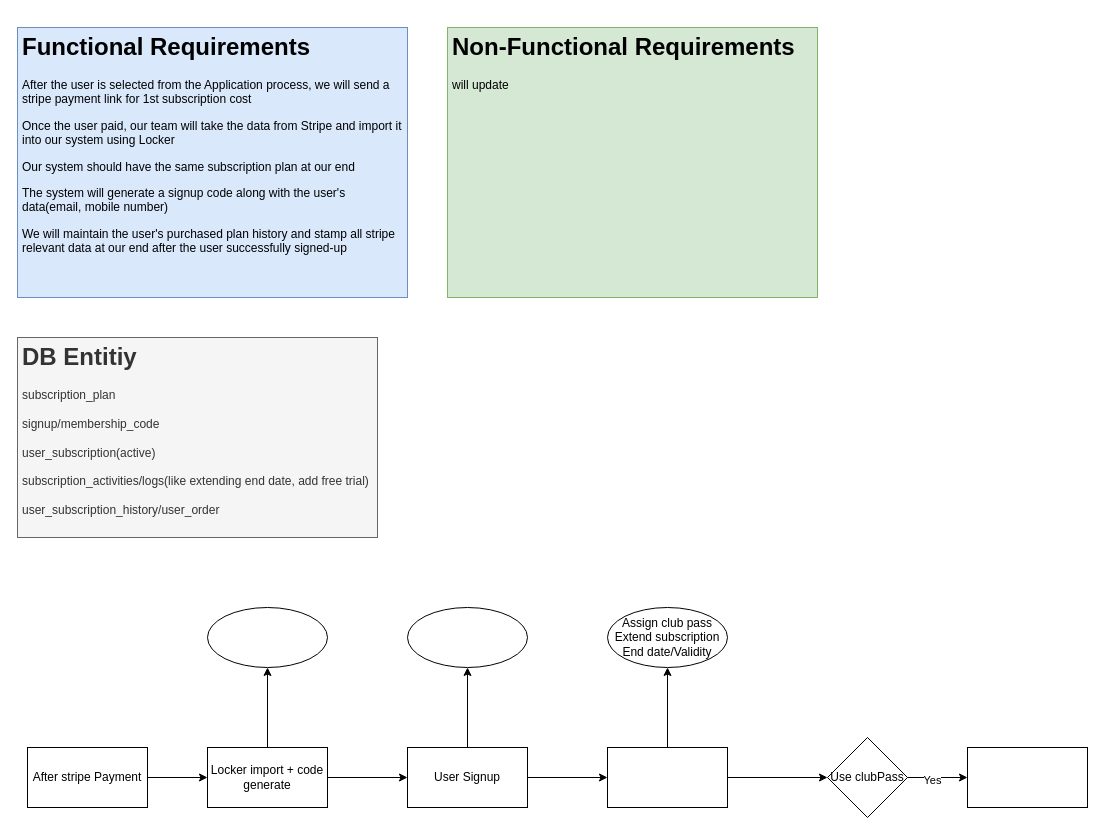
The diagram is 1105 pixels wide and 835 high, and some of its shapes have lost their labels. Each missing label, with the centre of its shape:
"Link user a/c with subscription" belongs at (467,637).
"Manage ClubPasses" belongs at (1027,777).
"Map data and store at our end" belongs at (267,637).
"Onbaording + ClubPass assign" belongs at (667,777).
